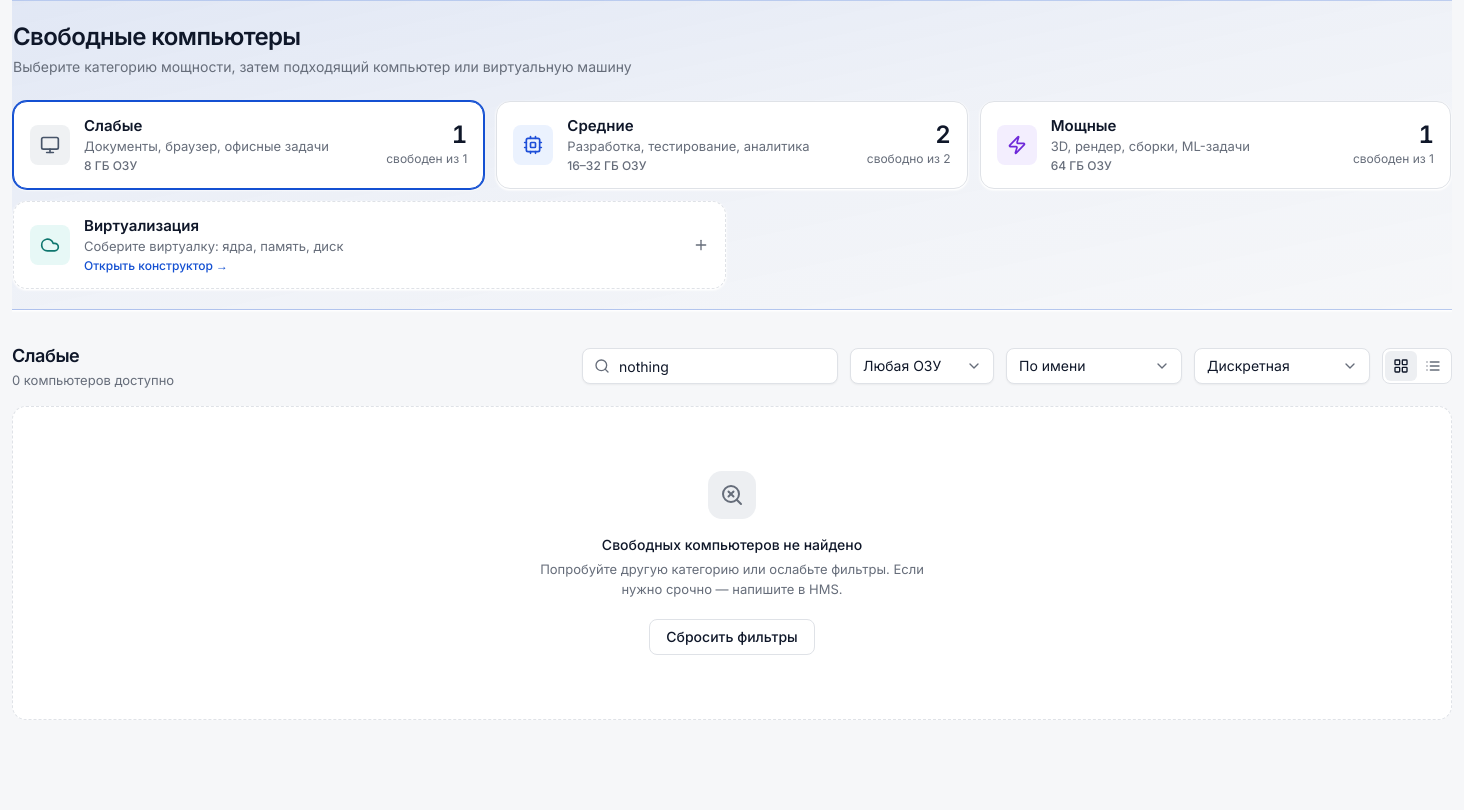
Test: CatalogPage › пустая выдача -> заглушка, «Сбросить фильтры» очищает поиск и фильтры
Expected: the text "Свободных компьютеров не найдено" is shown, [602,535,862,555]
Expected: the text "0 компьютеров доступно" is shown, [12,370,174,390]
Click the button "Сбросить фильтры" at (732, 637), box [649,619,815,655]
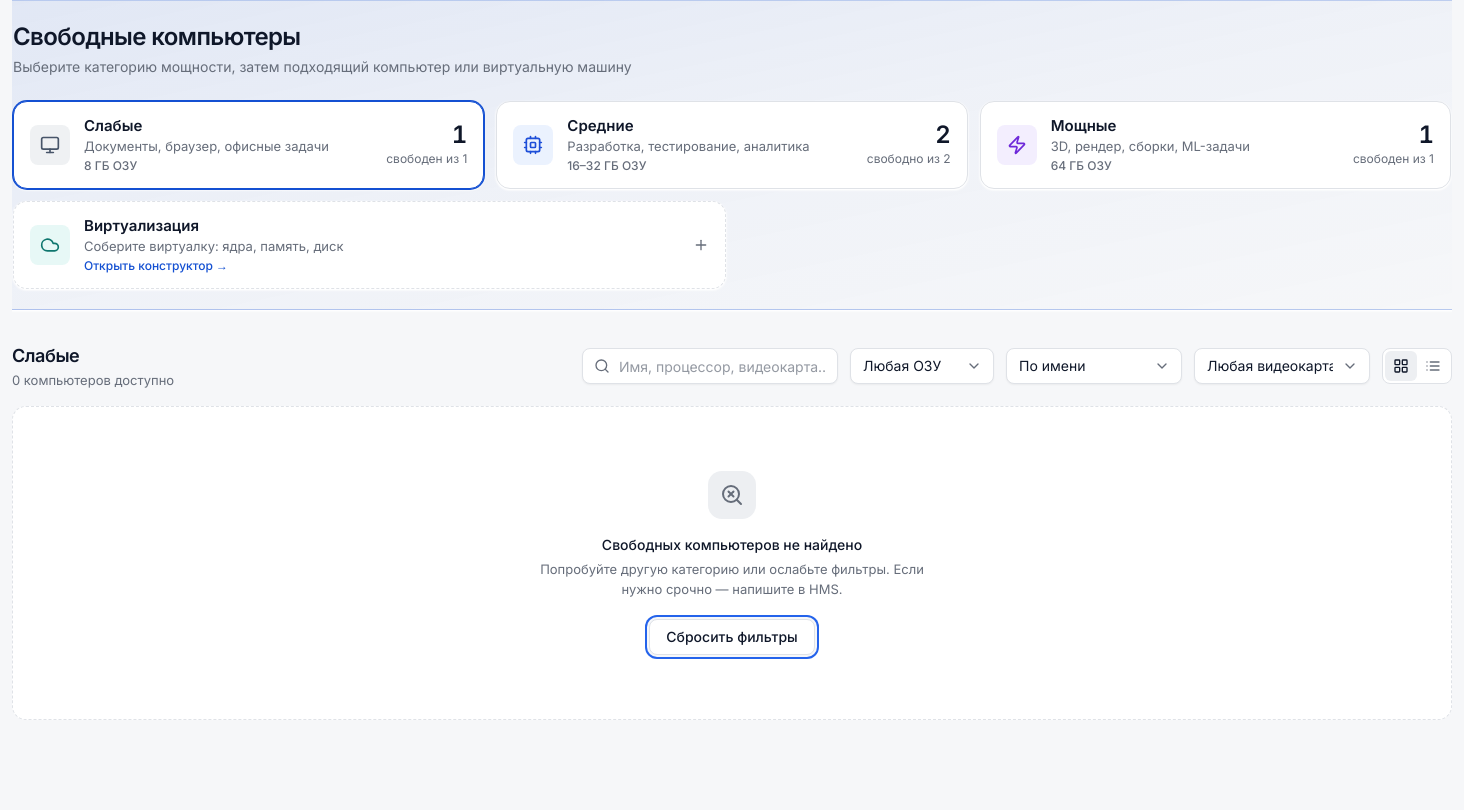
Now the field with placeholder "Имя, процессор, видеокарта…" is empty, box [582,348,838,384]
